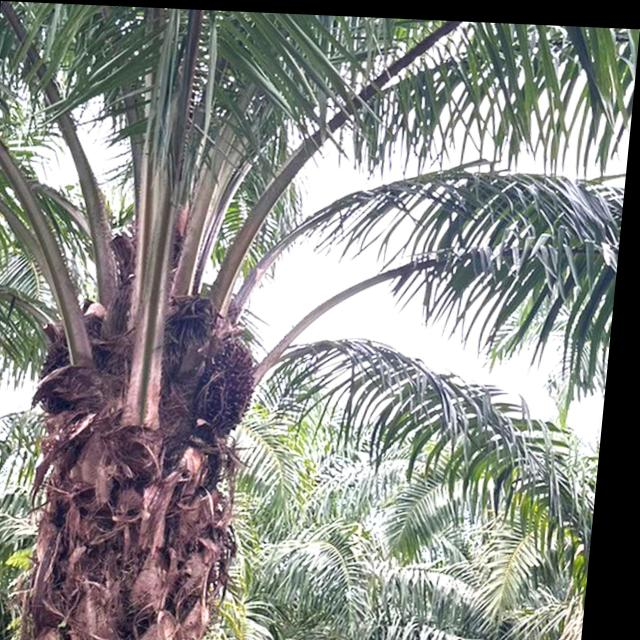ripe: (194, 321, 277, 440)
